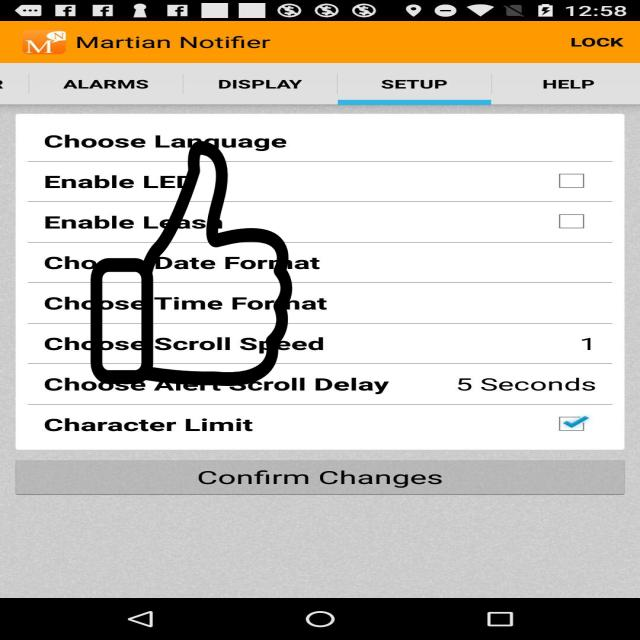privacy zuckering: (88, 141, 295, 386)
